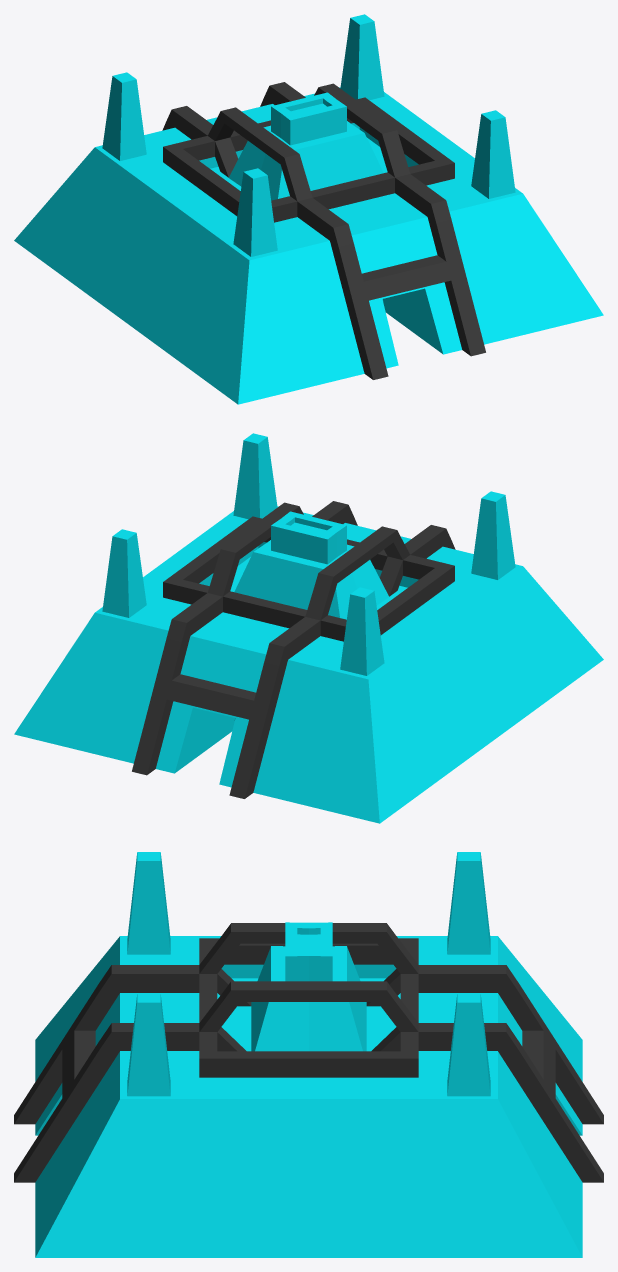
3 renders of one model, top to bottom at view 1: azimuth 30°, elevation 25°; view 2: azimuth 150°, elevation 25°; view 3: azimuth 270°, elevation 25°, orthographic. The views are drawn at different scales.
Parts seen in each view (by area): view 1: Base, BaseDetail; view 2: Base, BaseDetail; view 3: Base, BaseDetail.
Boxes of the visible parts, box(x1,y1,x2,y2) form: Base: box(14, 14, 603, 404); BaseDetail: box(162, 82, 485, 379); Base: box(14, 433, 603, 823); BaseDetail: box(132, 501, 455, 798); Base: box(35, 852, 582, 1257); BaseDetail: box(14, 923, 603, 1182).
Size of the model in its own units: 498 by 236 by 570.
